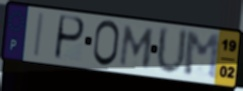I: (32, 12, 46, 60)
M: (183, 31, 222, 82), (117, 23, 156, 70)
O: (91, 19, 122, 69)
P: (52, 13, 87, 63)
U: (155, 25, 190, 78)
